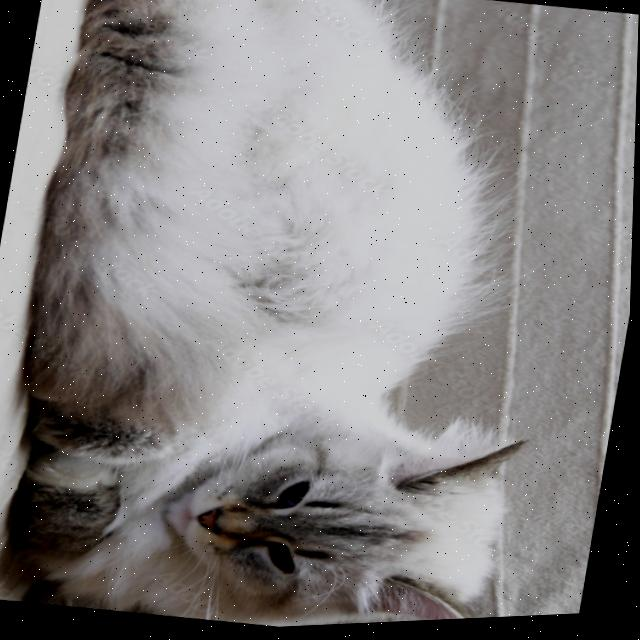Neva Masquerade: (0, 0, 610, 640)
